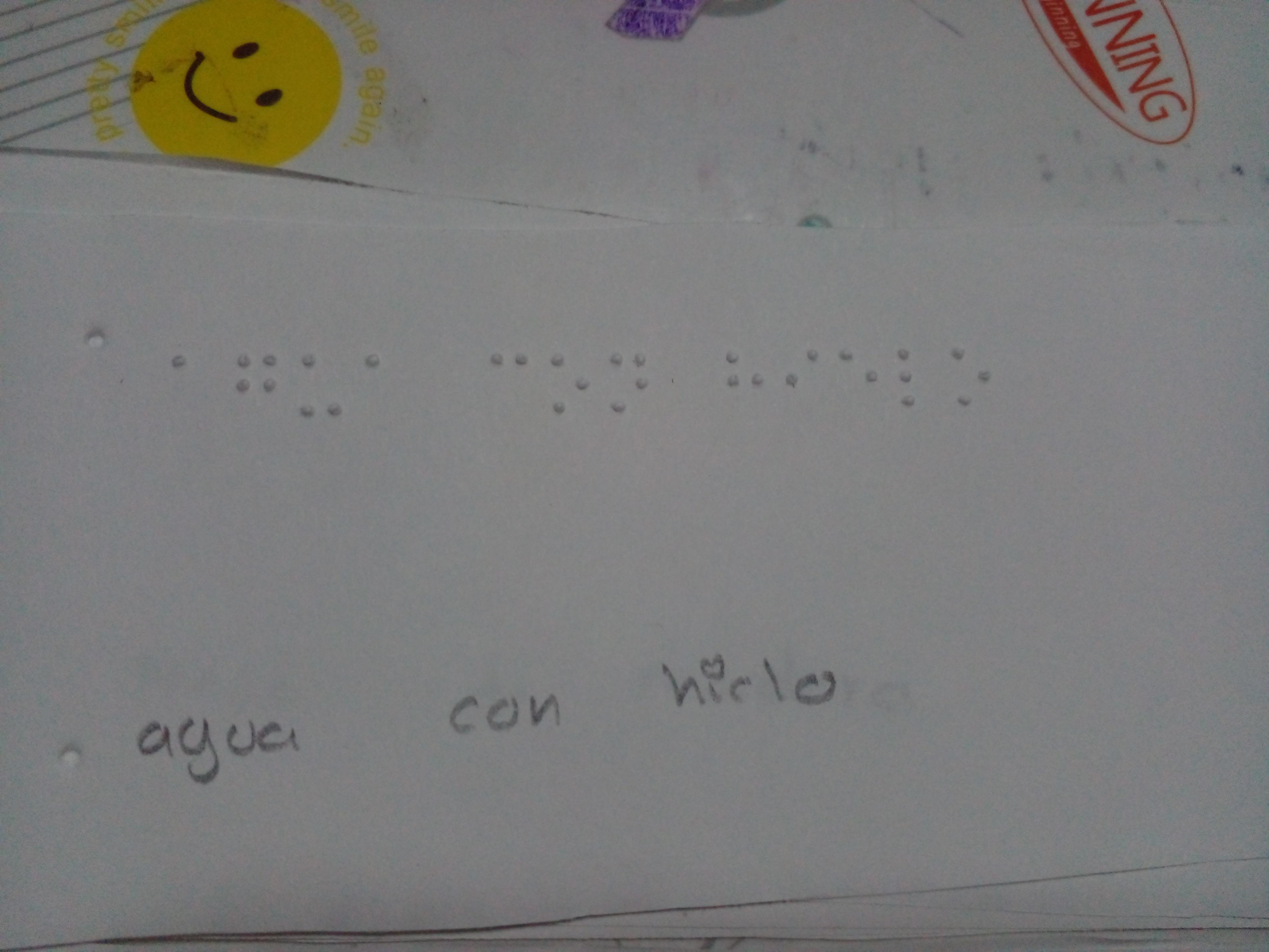a: (155, 342, 209, 386), (355, 342, 395, 381)
c: (490, 338, 536, 395)
e: (832, 330, 881, 411)
g: (229, 352, 282, 404)
h: (708, 335, 773, 408)
i: (782, 339, 824, 401)
l: (895, 338, 925, 417)
n: (601, 346, 657, 418)
o: (945, 338, 995, 420), (547, 341, 593, 423)
u: (297, 342, 345, 443)
